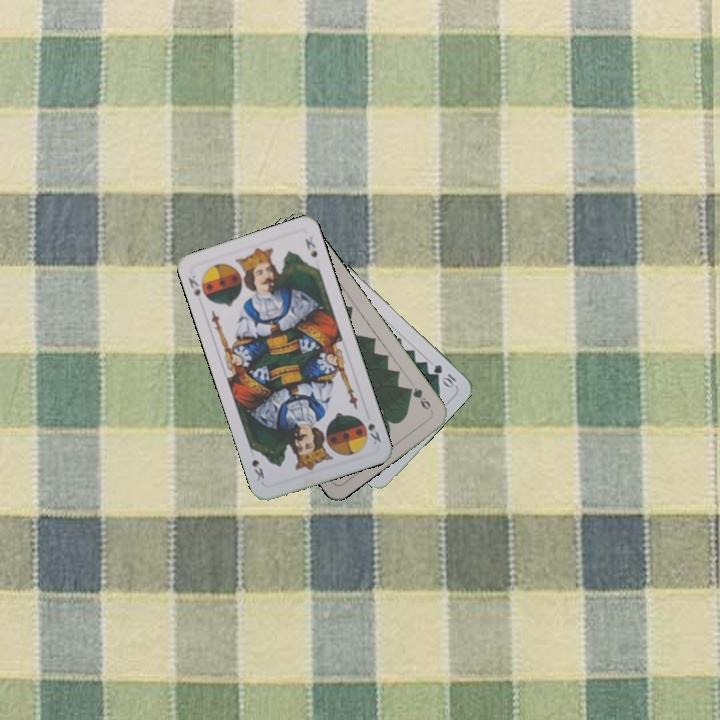G10: (429, 360, 459, 390)
G9: (404, 383, 435, 415)
SK: (364, 419, 384, 447), (184, 271, 203, 299)
